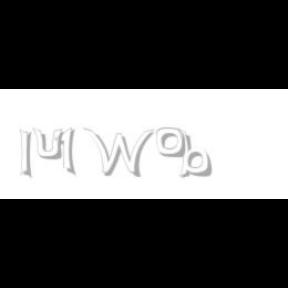1: (54, 128, 76, 176)
W: (83, 128, 155, 178)
b: (177, 128, 215, 178)
l: (20, 128, 36, 180)
o: (156, 128, 186, 158)
u: (32, 128, 68, 160)
